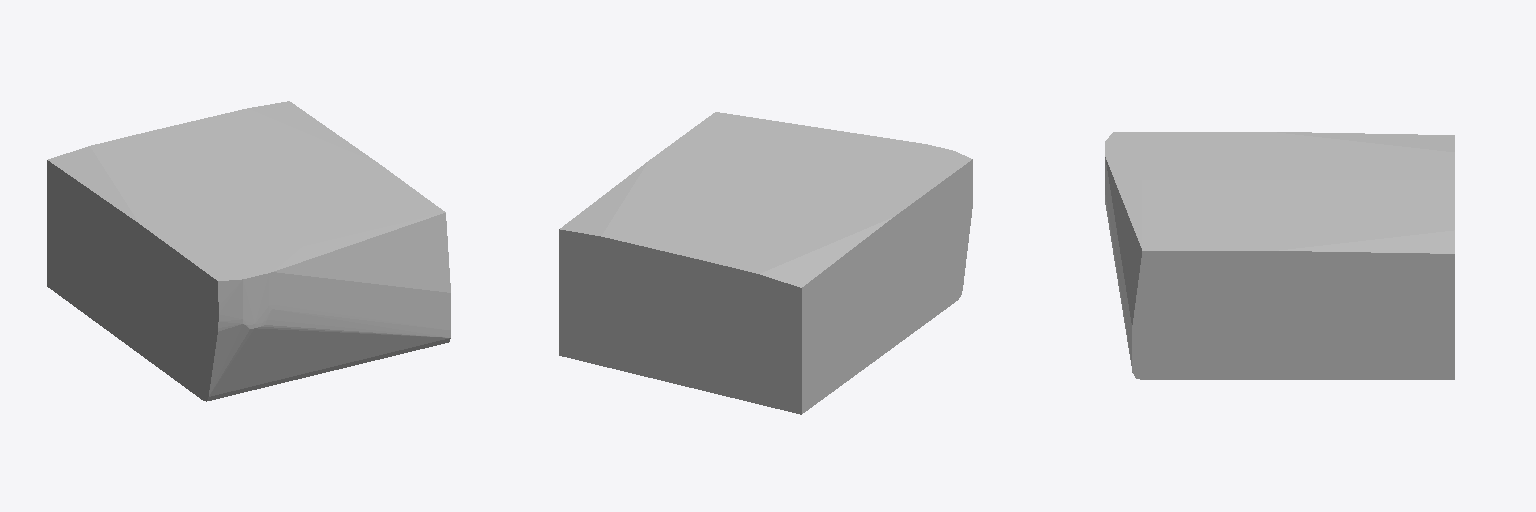
File: Toaster_24_collision_16.obj
3 renders of one model, left to right at view 1: azimuth 30°, elevation 25°; view 2: azimuth 150°, elevation 25°; view 3: azimuth 270°, elevation 25°, orthographic.
Bounding box in the file's own units: 0.1213 × 0.0623 × 0.1519.